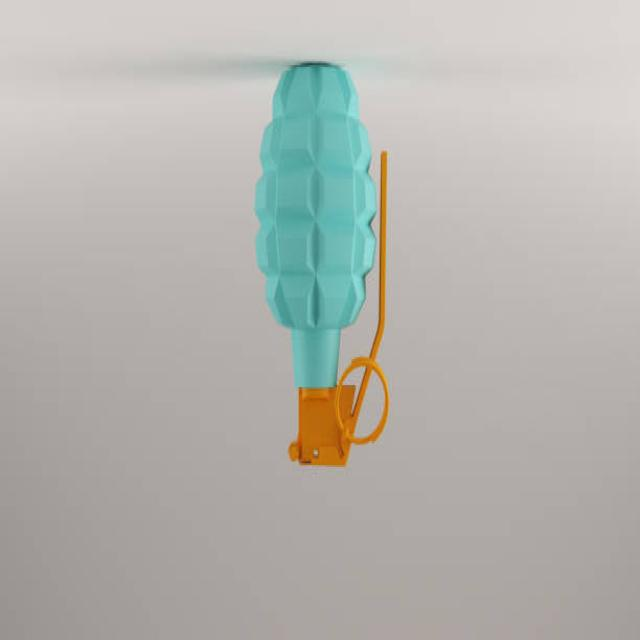grenade: (249, 55, 401, 484)
